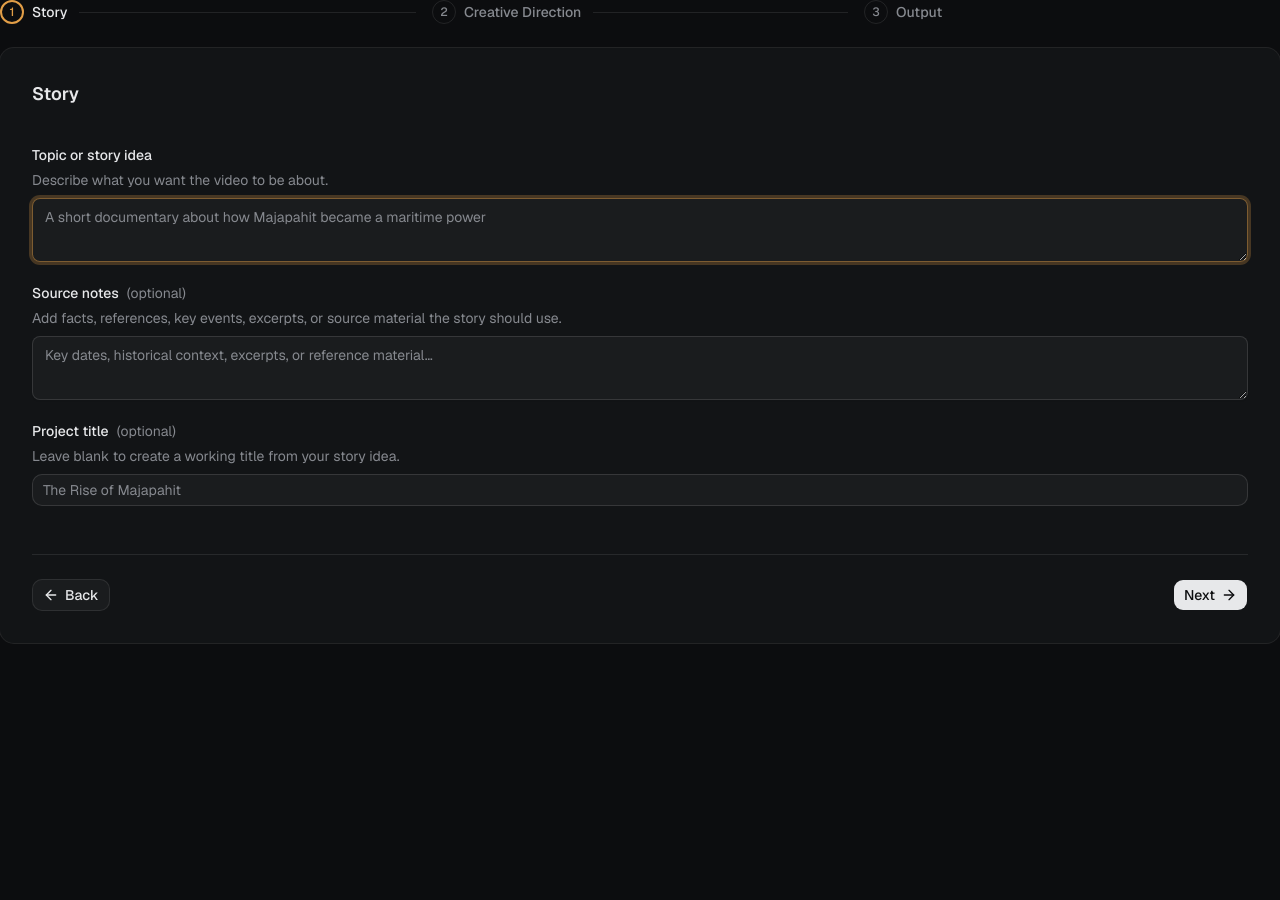
Historical VideoWizard › routes an early form submission through Output before creating
This screenshot has width=1280, height=900.
Type "A documentary about Majapahit maritime power" into the text box labelled "Topic or story idea" at {"x": 640, "y": 230}, box [32,198,1248,262]
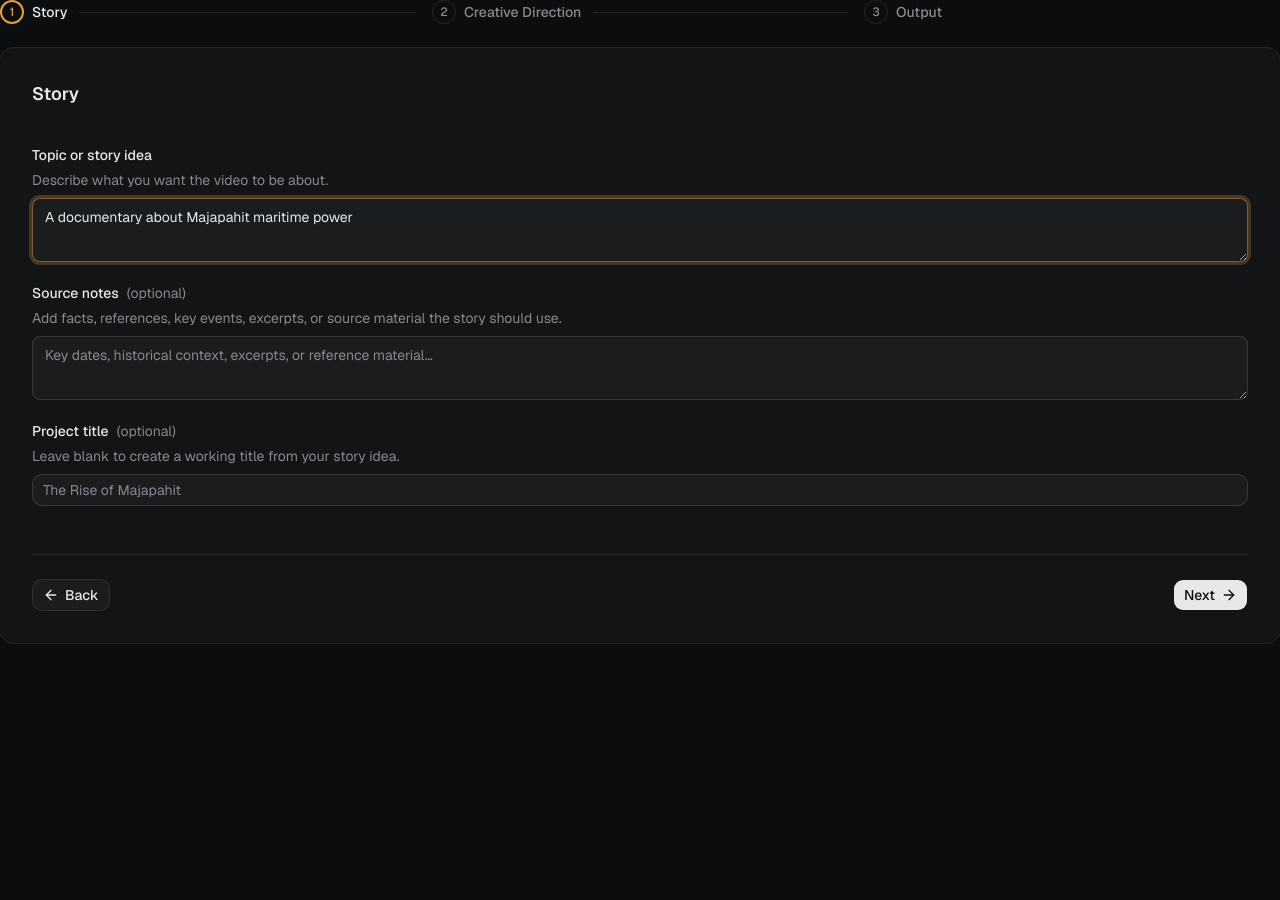
Type "A dated source excerpt." into the text box labelled "Source notes (optional)" at {"x": 640, "y": 368}, box [32,336,1248,400]
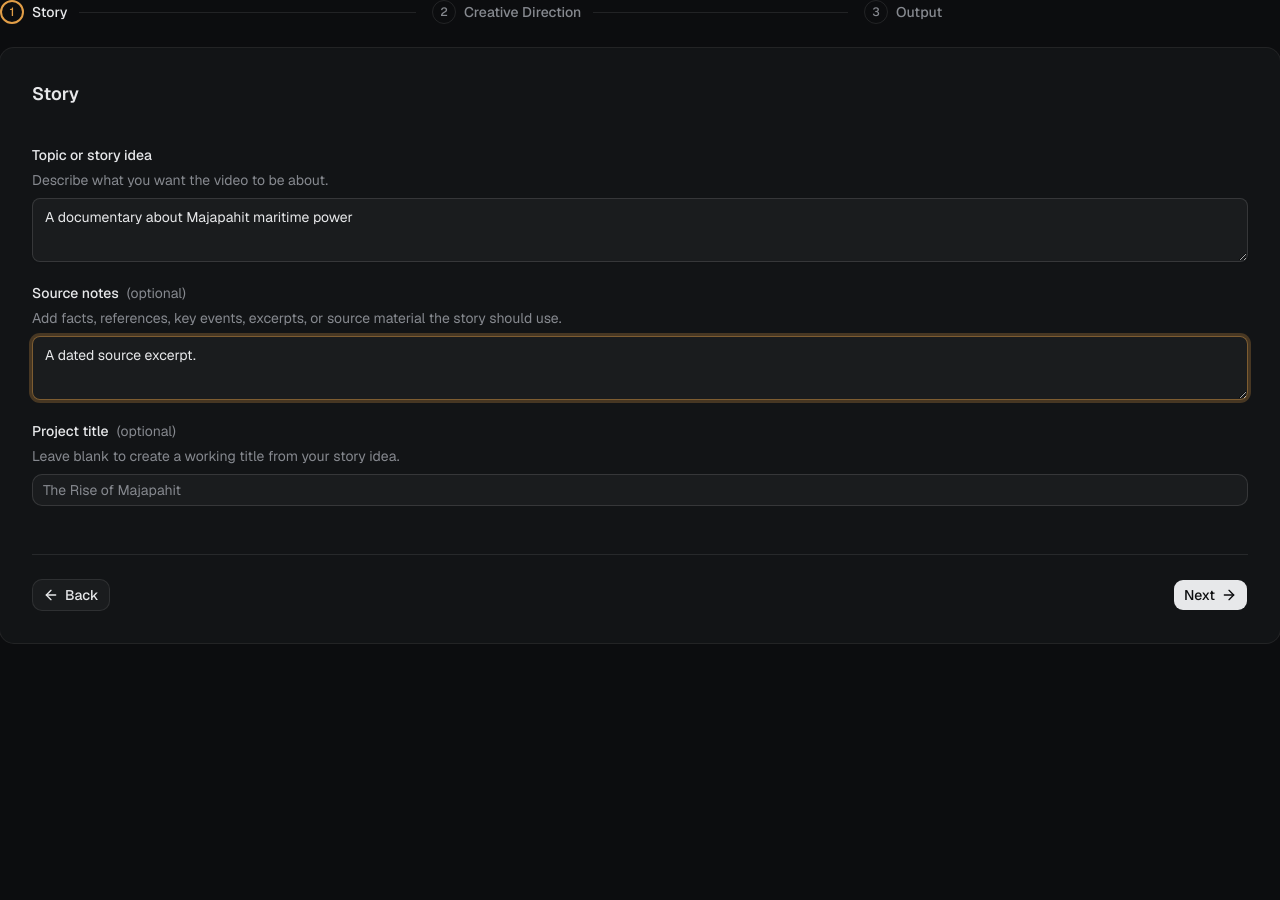
Click the button "Next" at {"x": 1210, "y": 595}, box [1173,579,1248,611]
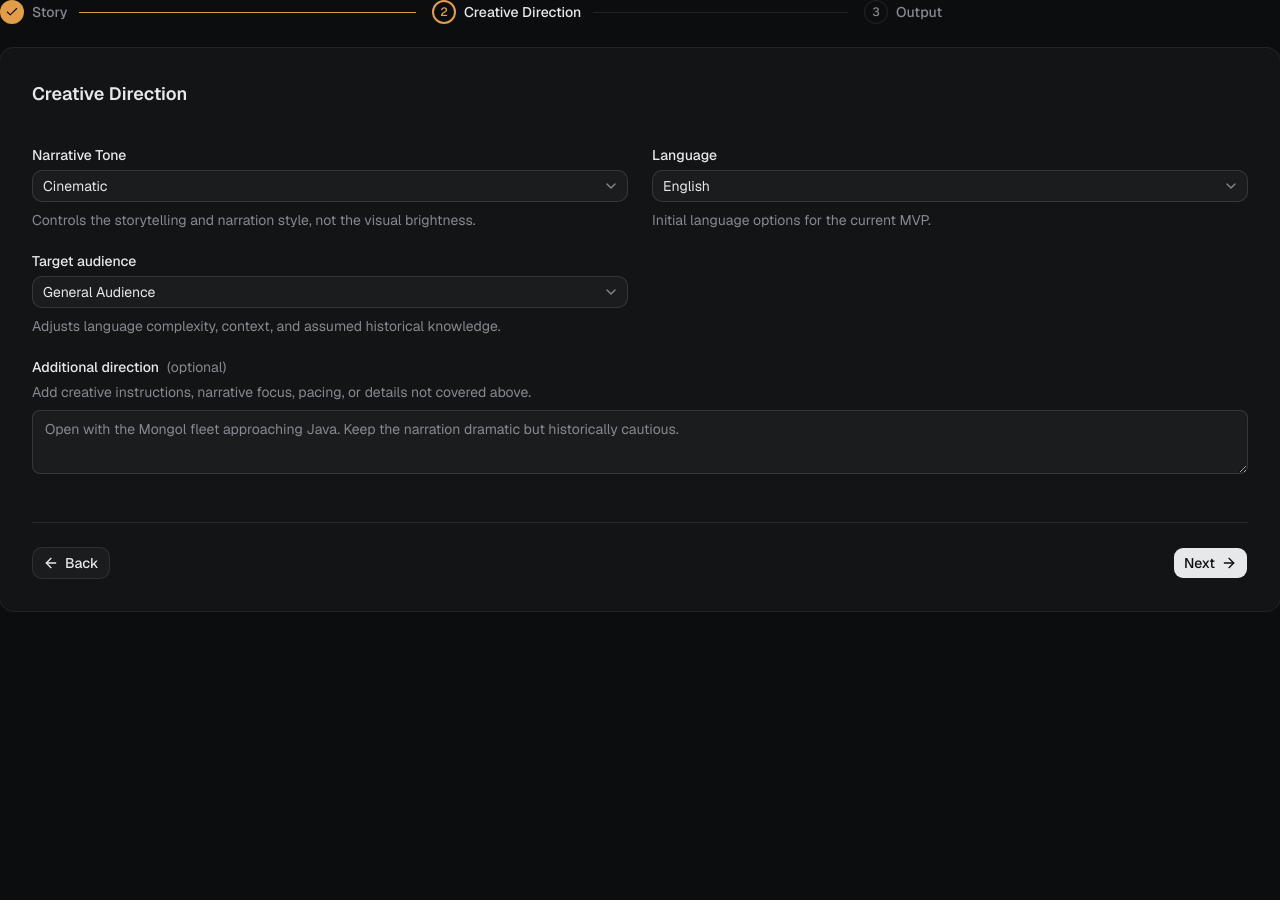
Submit the form named "Historical project creation"
(page scrolled)
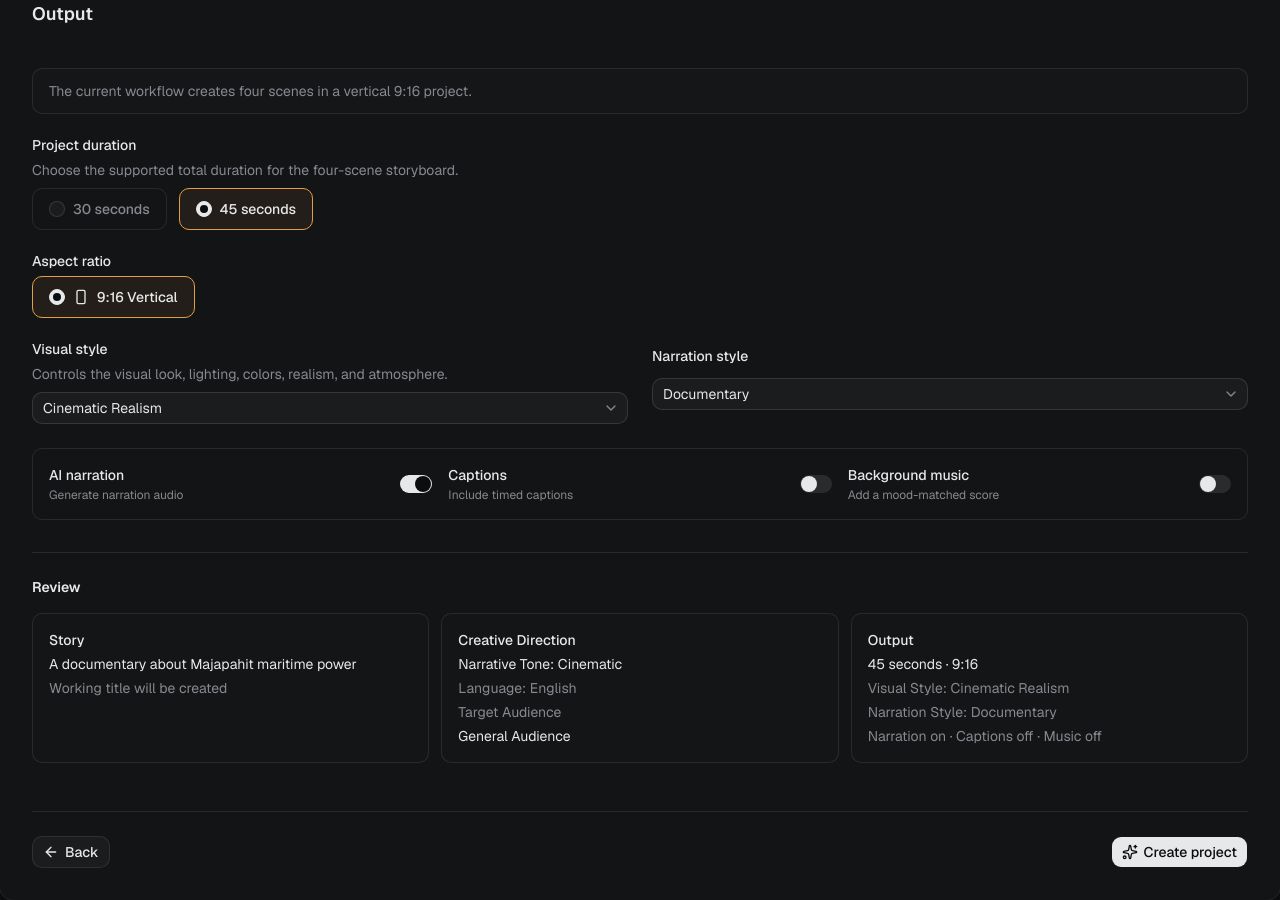
expect the 1st heading "Output" is shown: met, box [32,2,93,25]
expect the button "Create project" is shown: met, box [1111,836,1248,868]
